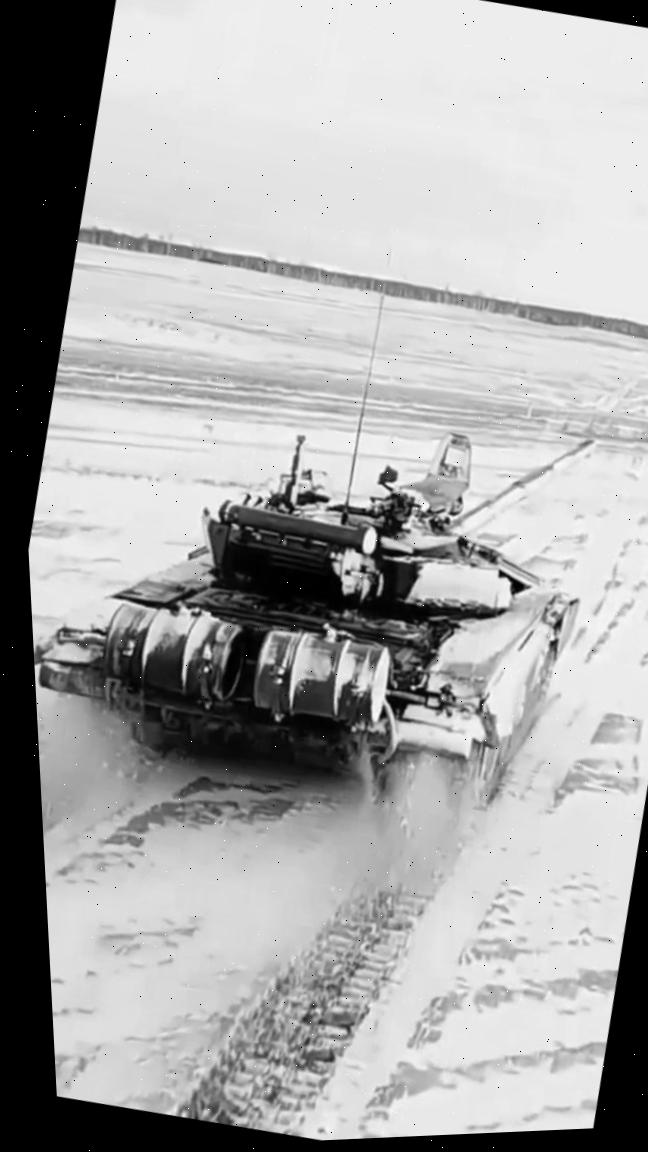tank: (18, 325, 648, 867)
